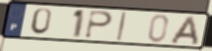0: (28, 7, 53, 36), (147, 14, 171, 44)
1: (71, 9, 87, 39)
A: (168, 15, 200, 46)
I: (115, 11, 128, 42)
P: (83, 10, 115, 40)
